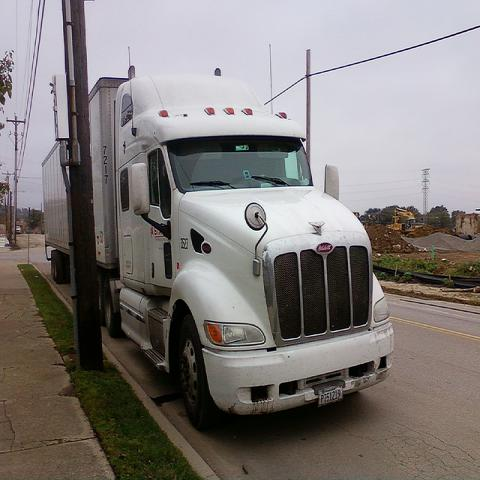car: (16, 226, 21, 233)
truck: (36, 66, 394, 432)
